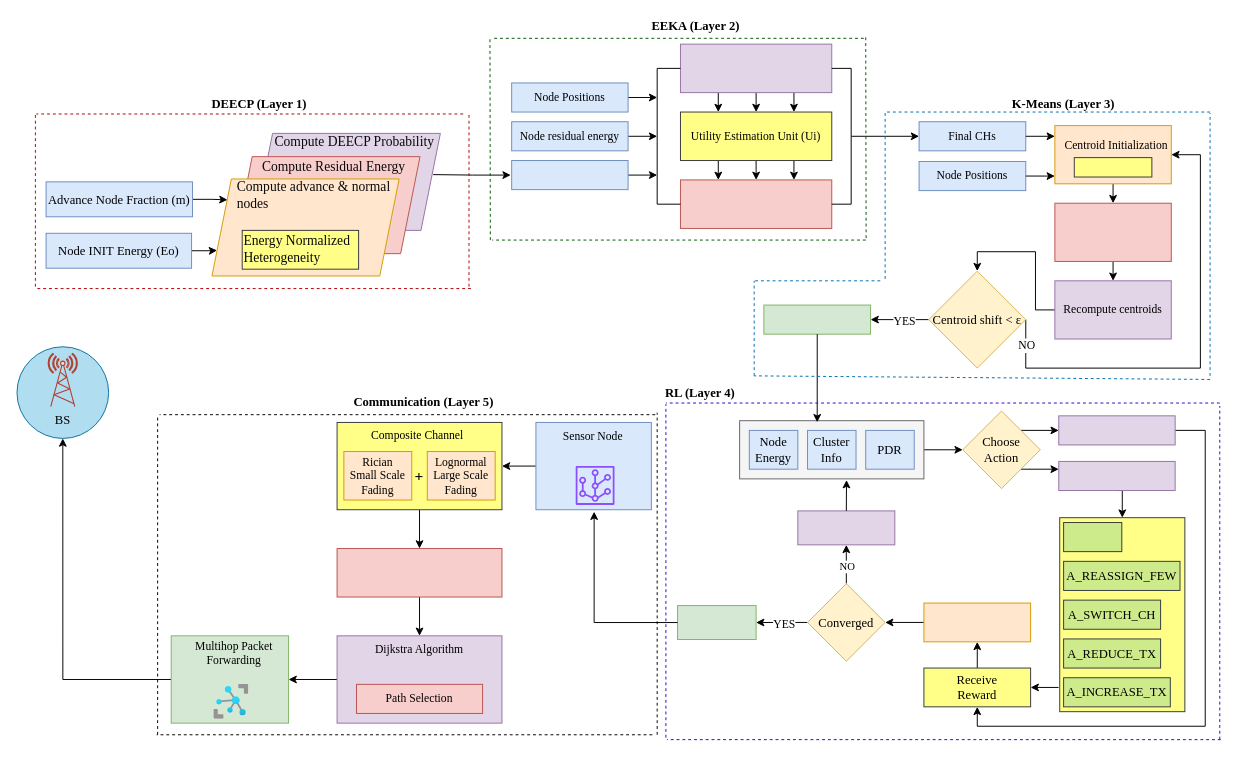
Image size: 1239x758. Some labels were removed from this diagram. Each missing label, with the centre of its shape:
A_NOOP: (1092,537)
Best Known Action: (1116,475)
CH Candidate list: (569,175)
CH-Guided: (1112,167)
Computation Unit (E, Hi, di): (755,68)
Distance Computation Assig Nodes to nearest centroid: (1112,231)
Link Weight Computation: (419,572)
Optimized Clusters: (716,622)
Round ++: (846,527)
Sorting and Selection Module: (755,203)
Spatially Compact Clusters: (817,319)
Take Random Action: (1116,430)
Update Q-Table: (977,622)
